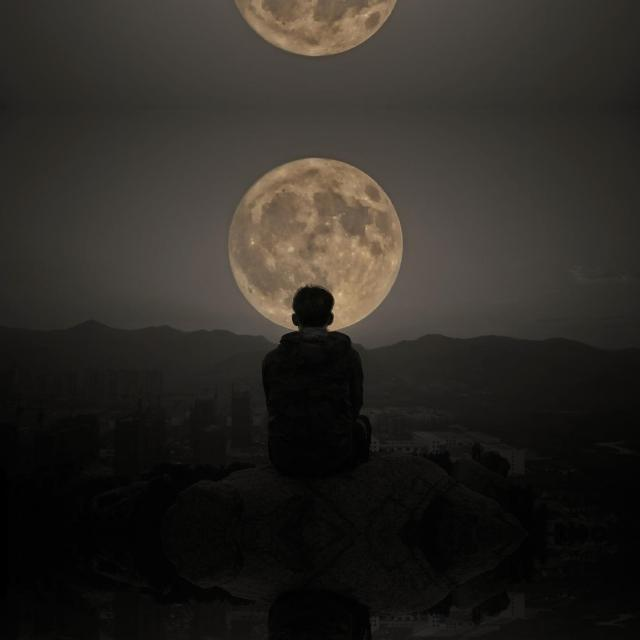person: (268, 284, 374, 480), (267, 586, 374, 640)
